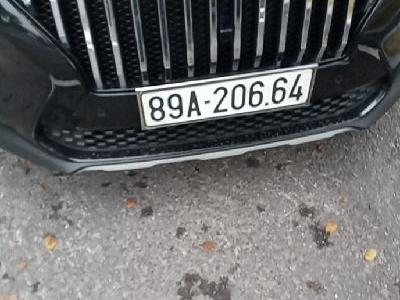lisence: (134, 63, 322, 132)
